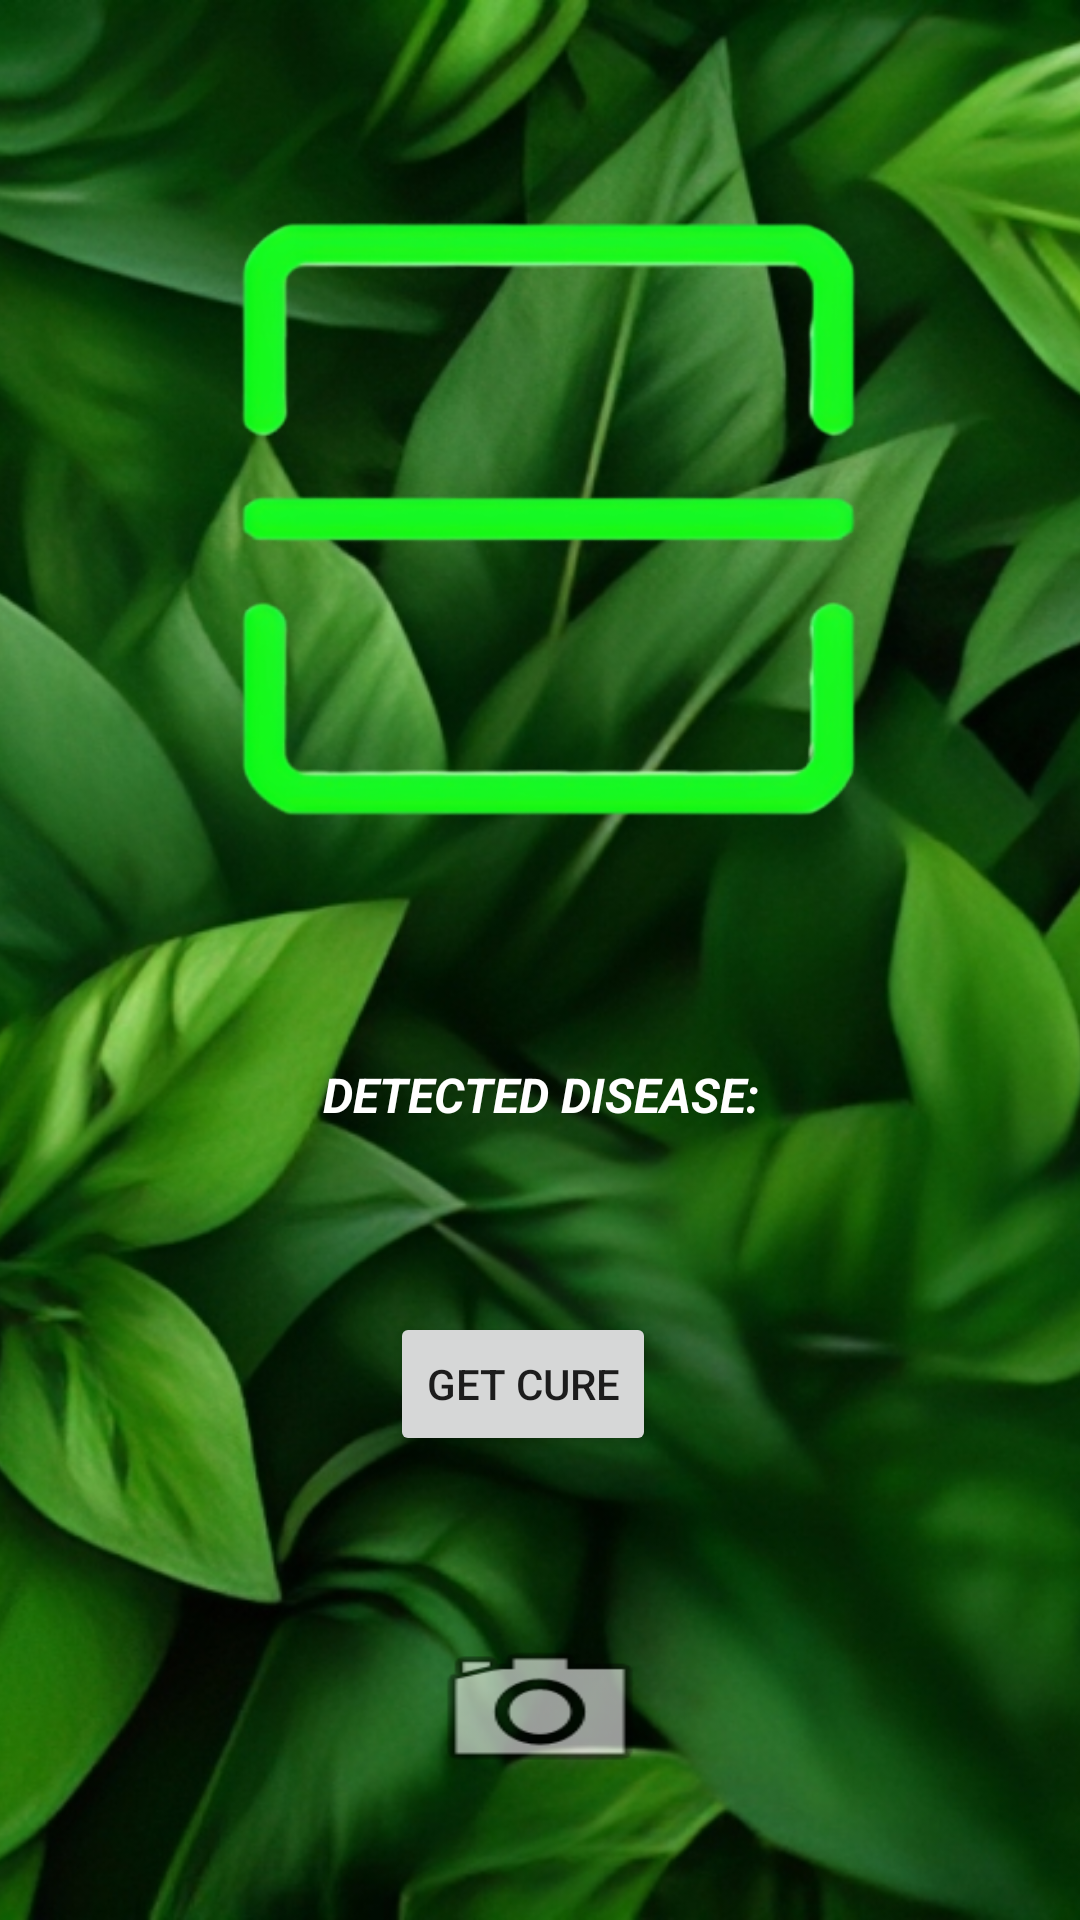

Icons on this 1080x1920 Android screen, each with the point to tap as [x,y]:
camera: [540,1709]
